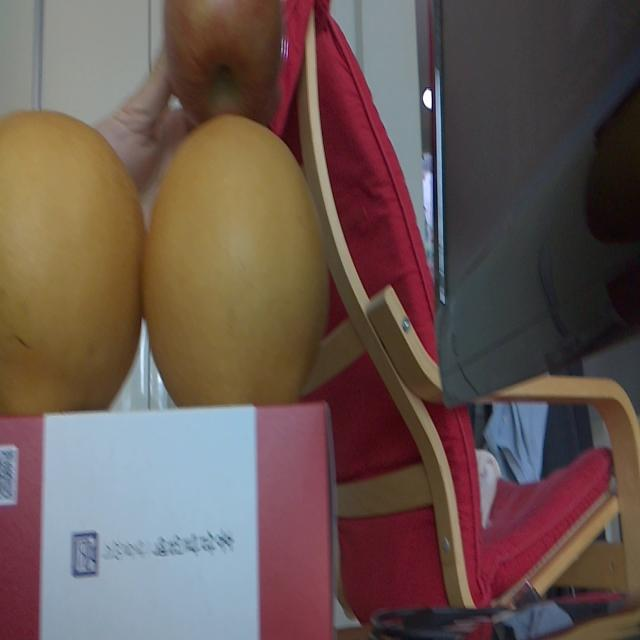apple: (164, 0, 280, 112)
pear: (144, 117, 328, 405), (1, 108, 146, 414)
